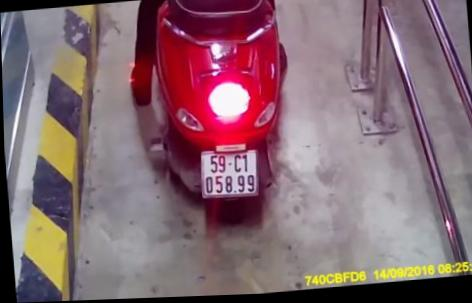LP: (196, 147, 261, 203)
